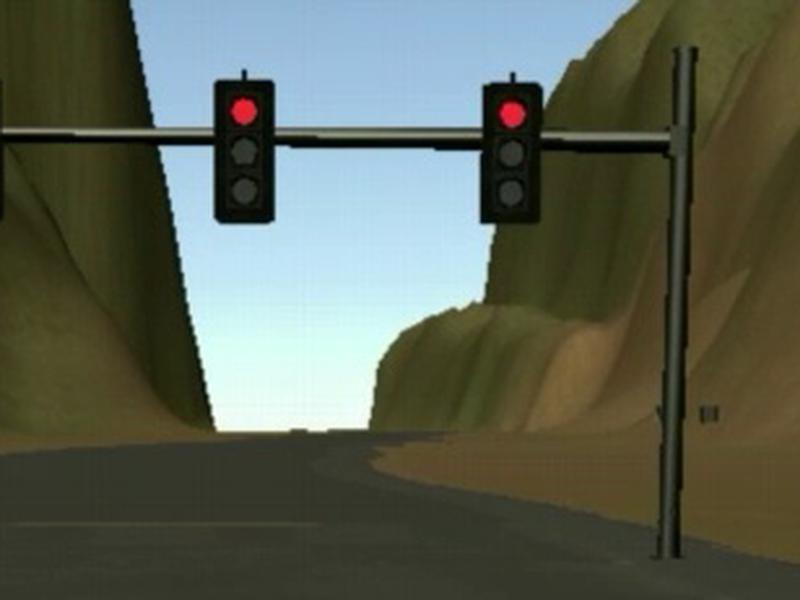Red: (213, 79, 274, 224), (480, 83, 543, 222)
